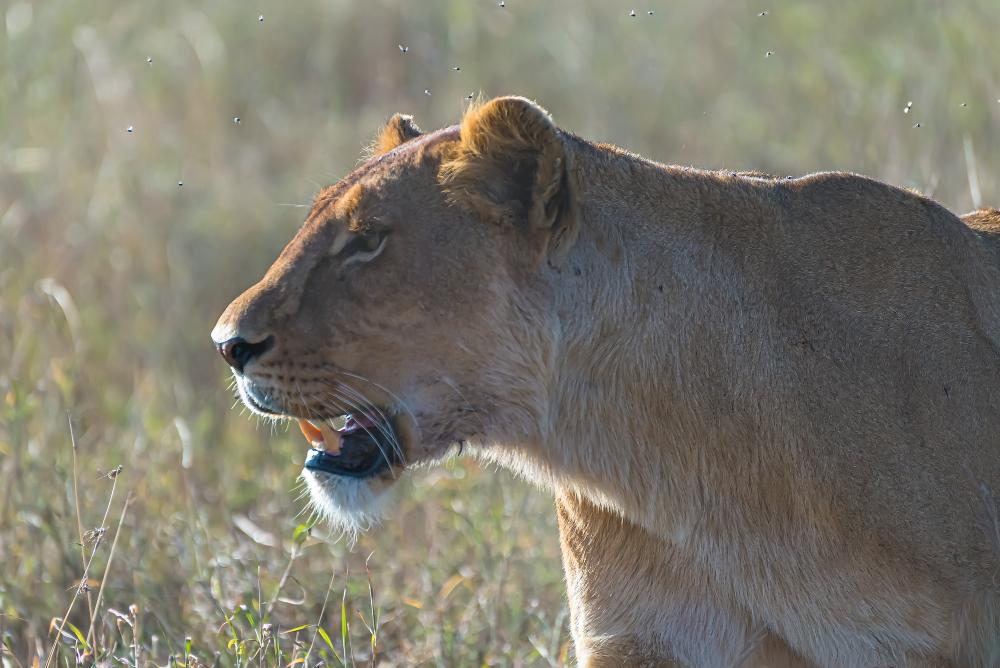lioness: (213, 93, 1000, 668)
